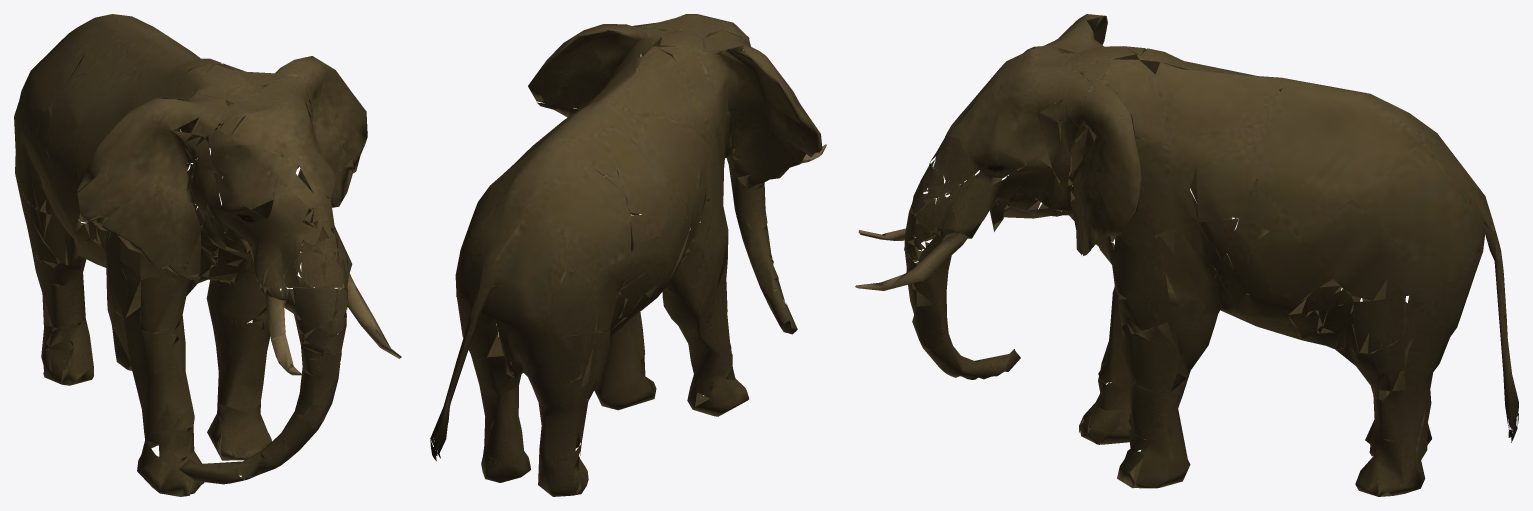
The model's file is elefant.glb.
3 views of the same model, side by side, from view 1: azimuth 30°, elevation 25°; view 2: azimuth 150°, elevation 25°; view 3: azimuth 270°, elevation 25° (orthographic). The views are drawn at different scales.
Bounding box in the file's own units: 1.04 × 1.28 × 1.9.
Materials: 1 (1 with a texture image).
